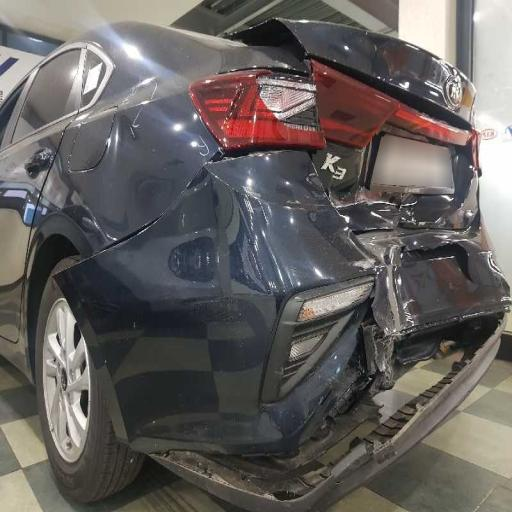broken: (150, 390, 450, 512)
dent: (264, 18, 488, 400)
